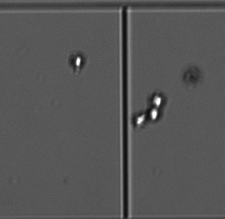Living Cell: (132, 112, 148, 128), (147, 106, 162, 122), (70, 52, 84, 69), (151, 93, 165, 108)
